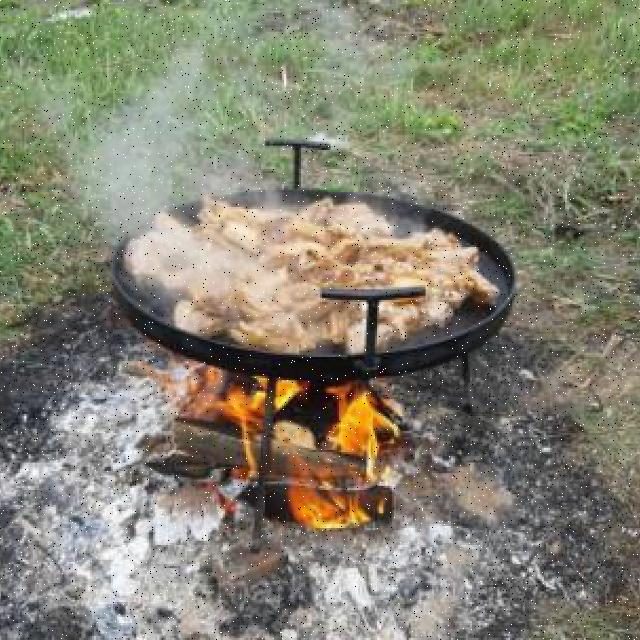fire: (212, 372, 396, 534)
smoke: (20, 51, 271, 308)
